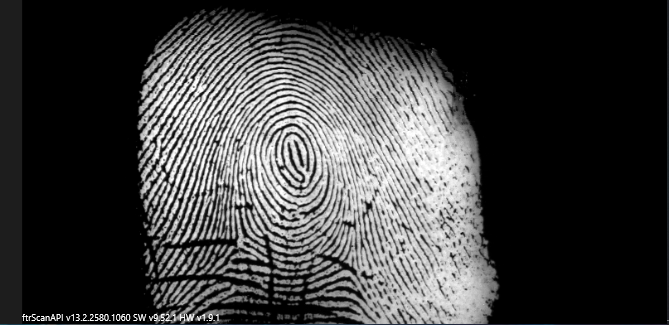deltas: (215, 208, 259, 262), (324, 235, 368, 289)
nucleo: (270, 120, 314, 180)
